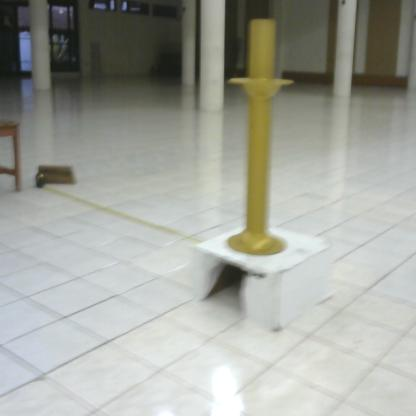pole: (219, 10, 305, 267)
